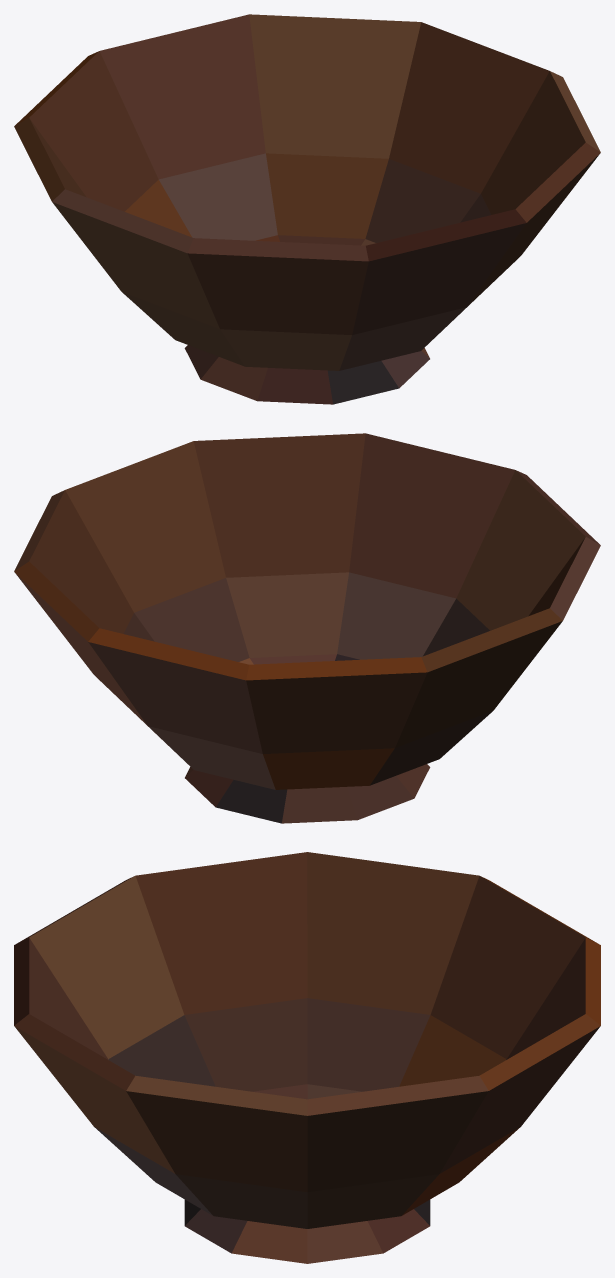
File: Prop_BowlD.fbx
3 views of the same model, one above another, from view 1: azimuth 30°, elevation 25°; view 2: azimuth 150°, elevation 25°; view 3: azimuth 270°, elevation 25° (orthographic). The views are drawn at different scales.
Visible parts, largest first — view 1: Prop_BowlD; view 2: Prop_BowlD; view 3: Prop_BowlD.
Part boxes in pixels (x1=…): Prop_BowlD: x1=14, y1=14, x2=600, y2=404; Prop_BowlD: x1=14, y1=433, x2=600, y2=823; Prop_BowlD: x1=14, y1=852, x2=600, y2=1263.
Size of the model in its own units: 31.95 by 13.35 by 30.39.
